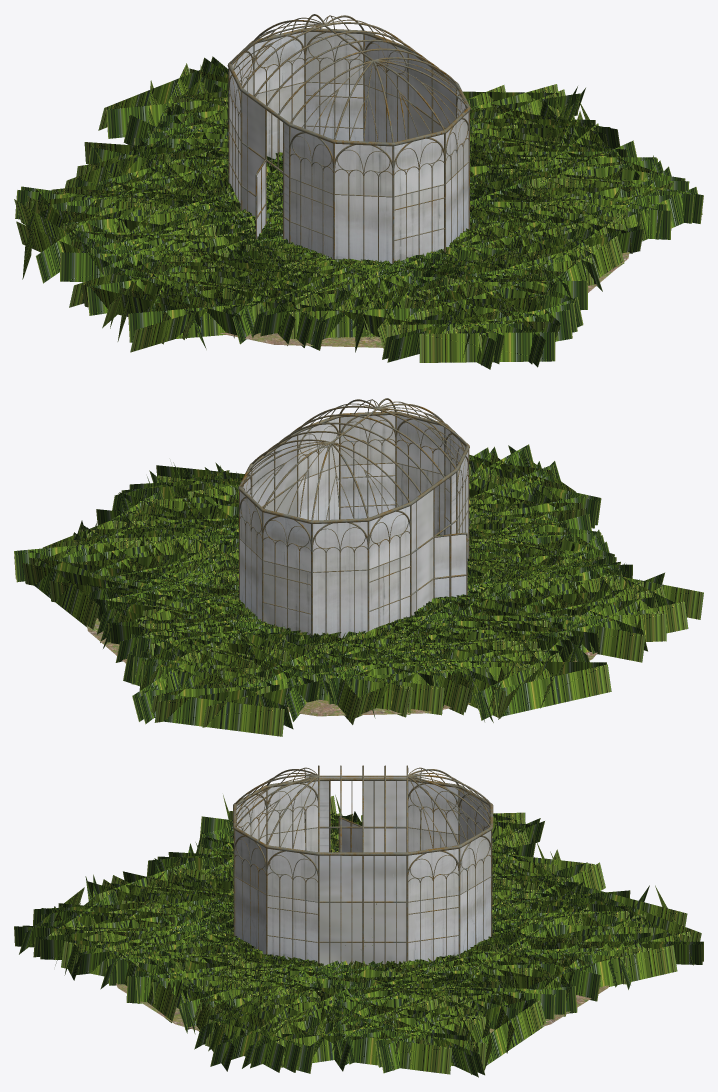
File: greenhouse.fbx
3 views of the same model, one above another, from view 1: azimuth 30°, elevation 25°; view 2: azimuth 150°, elevation 25°; view 3: azimuth 270°, elevation 25° (orthographic). The views are drawn at different scales.
Parts seen in each view (by area): view 1: 草_3, 面, 杆件, 圆盘; view 2: 草_3, 面, 杆件, 圆盘; view 3: 草_3, 面, 杆件, 圆盘.
Part boxes in pixels (x1,y1,x2,y2): 草_3: [14, 56, 703, 369]; 面: [229, 32, 468, 263]; 杆件: [227, 14, 470, 263]; 圆盘: [220, 252, 629, 347]; 草_3: [14, 444, 703, 736]; 面: [240, 415, 468, 638]; 杆件: [238, 398, 469, 637]; 圆盘: [87, 618, 597, 716]; 草_3: [14, 795, 703, 1077]; 面: [235, 781, 490, 965]; 杆件: [233, 765, 493, 968]; 圆盘: [116, 983, 609, 1033].
Size of the model in its own units: 14.27 by 4.26 by 15.59.
Materials: 4 (4 with a texture image).
